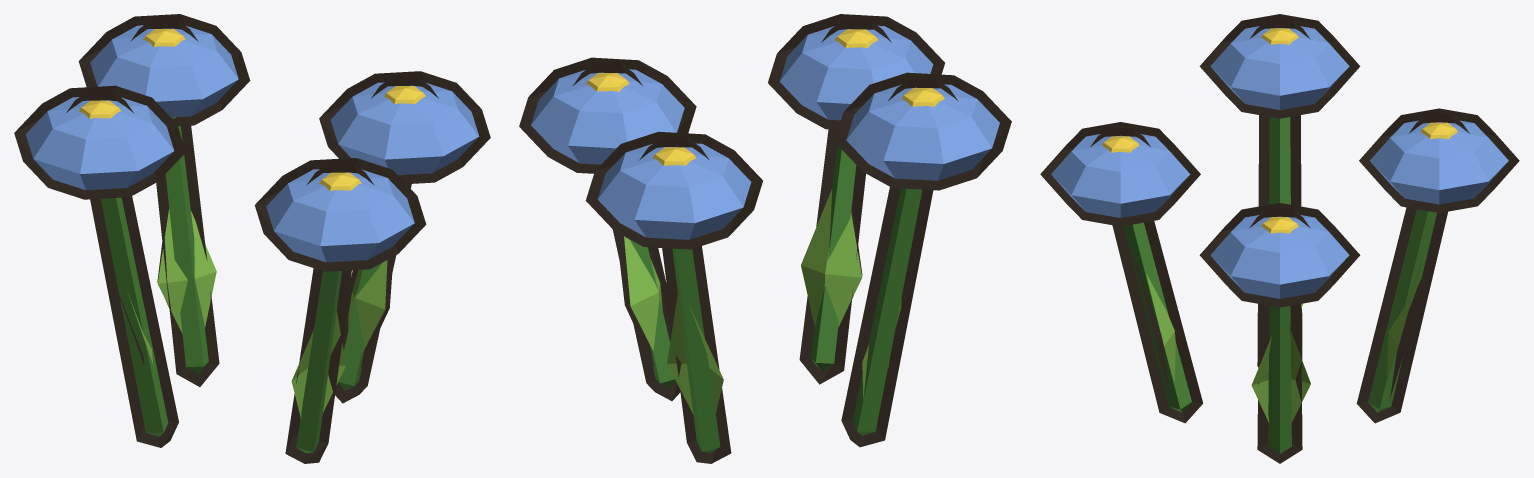
The model's file is flower_03.glb.
3 renders of one model, left to right at view 1: azimuth 30°, elevation 25°; view 2: azimuth 150°, elevation 25°; view 3: azimuth 270°, elevation 25°, orthographic. The views are drawn at different scales.
Visible parts, largest first — view 1: OBJ_flower_03; view 2: OBJ_flower_03; view 3: OBJ_flower_03.
Part boxes in pixels (x1,y1,x2,y2): OBJ_flower_03: (14, 14, 490, 463); OBJ_flower_03: (519, 14, 1011, 463); OBJ_flower_03: (1040, 14, 1519, 463).
Size of the model in its own units: 0.2408 by 0.1848 by 0.2408.
